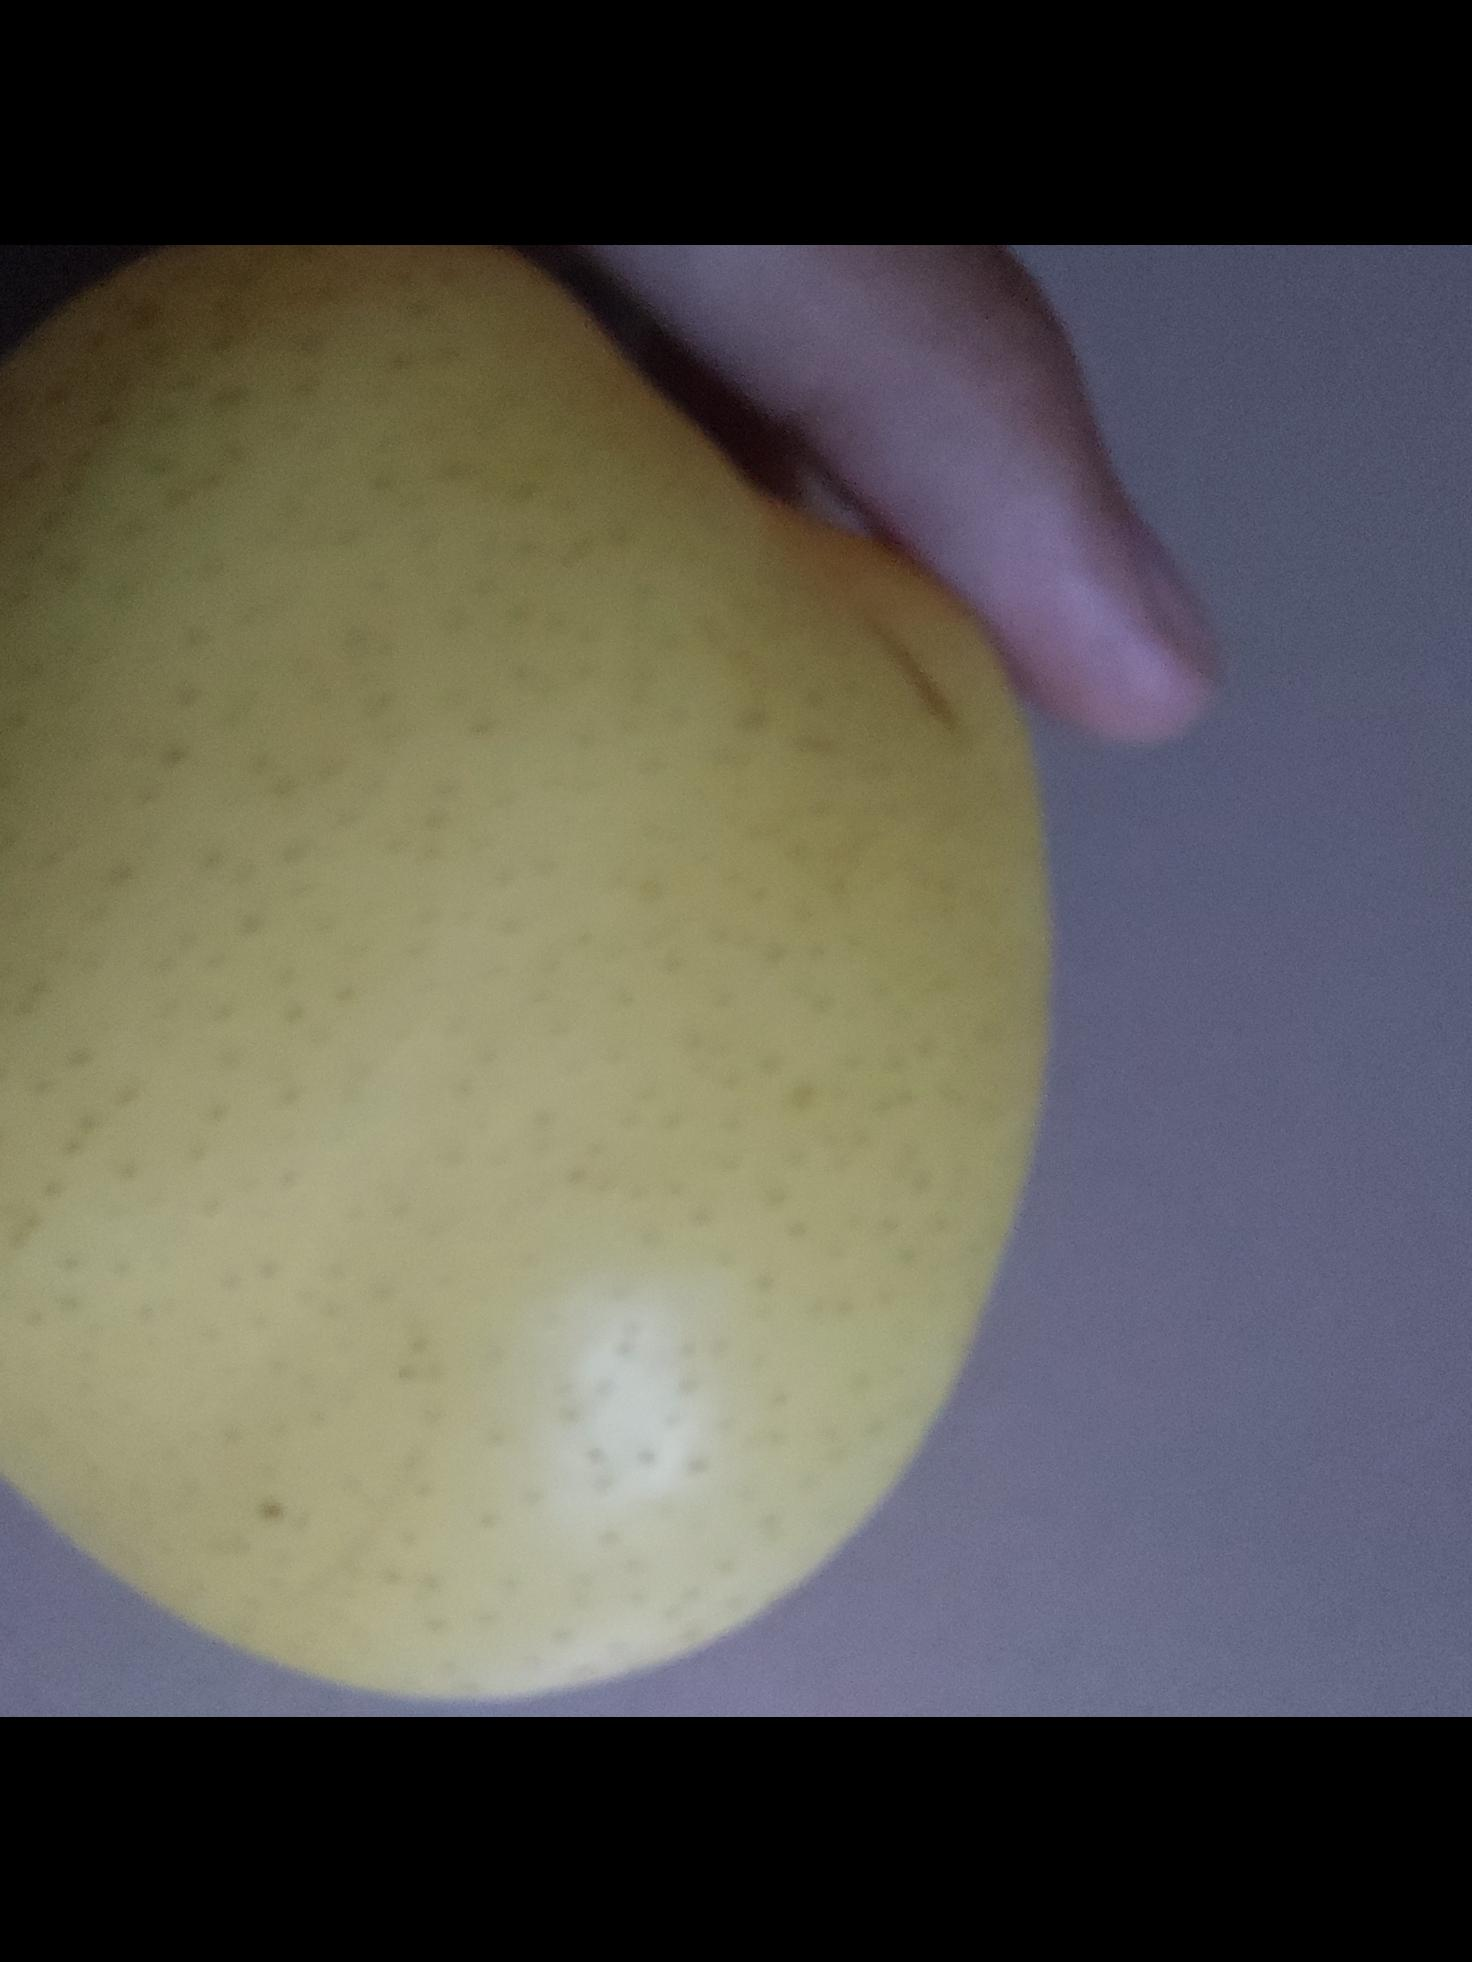Good Pear: (0, 245, 1050, 1717)
